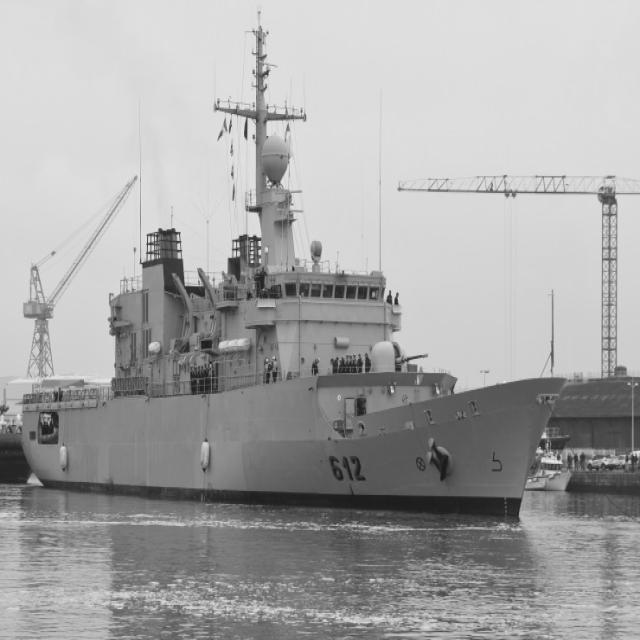Fragata: (19, 1, 568, 528)
